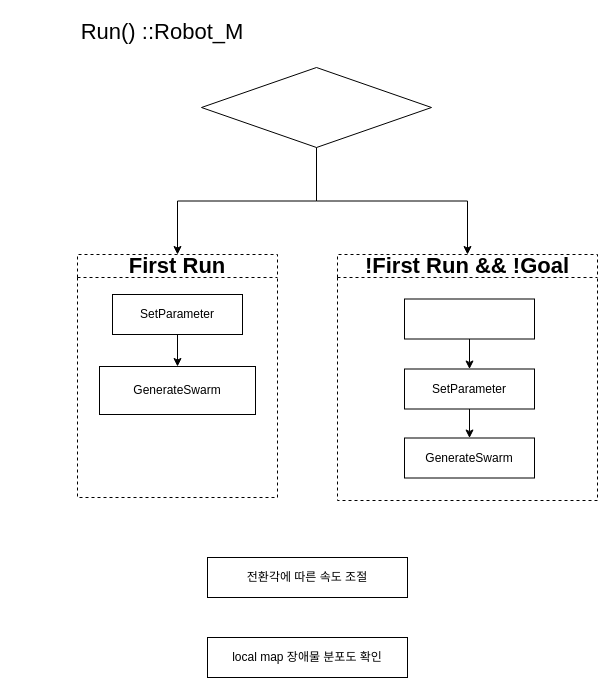
The diagram is 615 pixels wide and 695 high, and some of its shapes have lost their labels. The centre of each missing label's shape, as x and y in pixels:
start: the point at 316,107
TerminateSwarm: the point at 469,318
